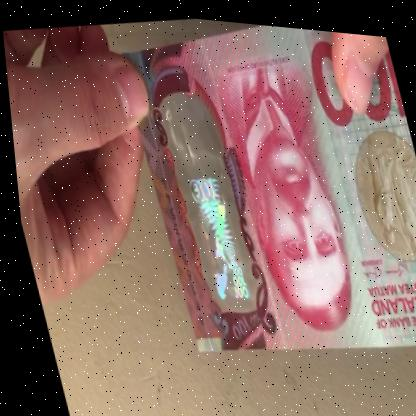100F: (161, 101, 250, 306)
